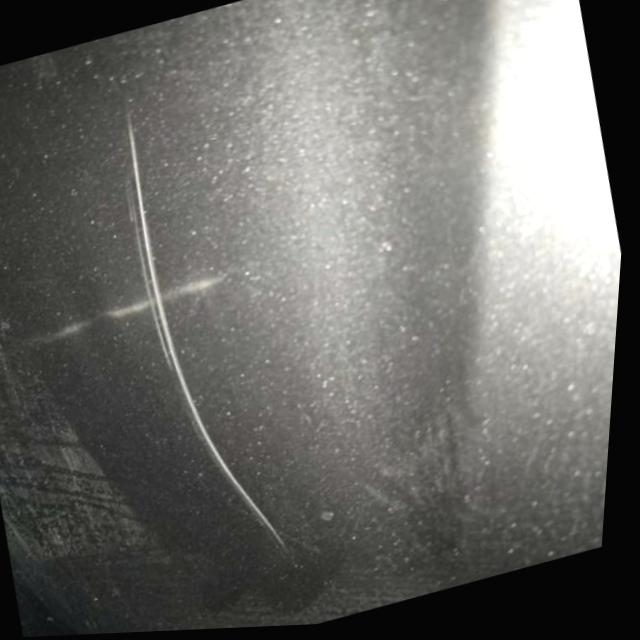Scratch: (115, 111, 287, 549)
